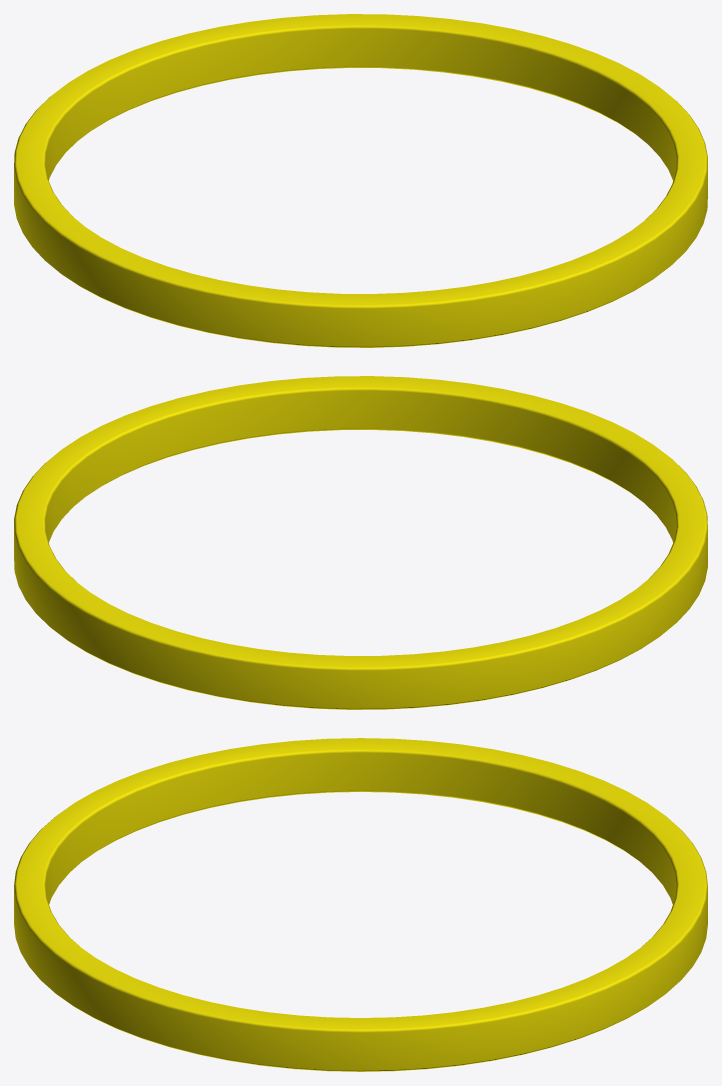
The picture shows the model from 3 angles, top to bottom: view 1: azimuth 30°, elevation 25°; view 2: azimuth 150°, elevation 25°; view 3: azimuth 270°, elevation 25°; orthographic projection.
Parts seen in each view (by area): view 1: seal_body; view 2: seal_body; view 3: seal_body.
Boxes of the visible parts, x1,y1,x2,y2 form: seal_body: (14,14,707,347); seal_body: (14,376,707,709); seal_body: (14,738,707,1071).
Bounding box in the file's own units: 0.2095 × 0.0143 × 0.2095.
